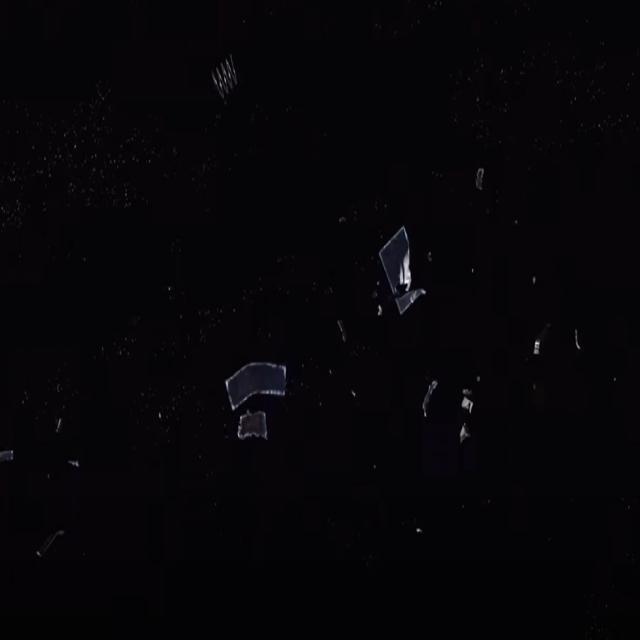large_debris: (223, 325, 288, 459), (363, 226, 428, 318), (209, 37, 245, 115), (459, 387, 481, 453), (418, 373, 443, 429)
